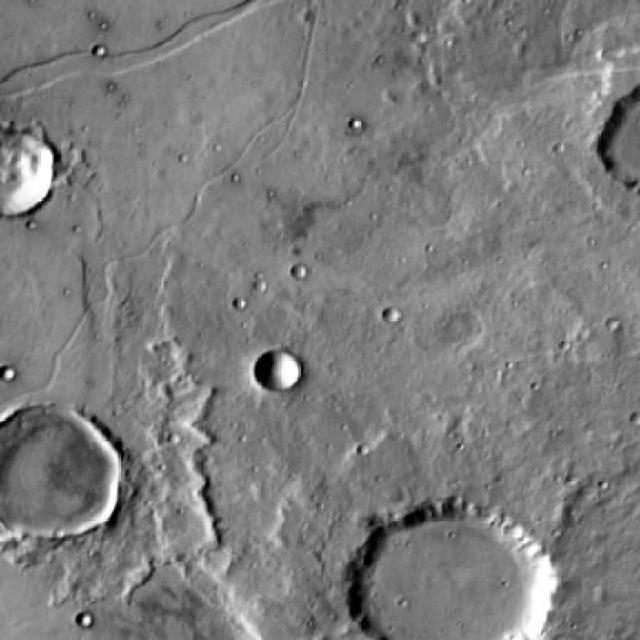crater: (360, 506, 568, 640), (0, 412, 134, 546), (0, 132, 72, 223), (267, 356, 315, 399), (392, 314, 410, 332), (0, 100, 6, 115)
